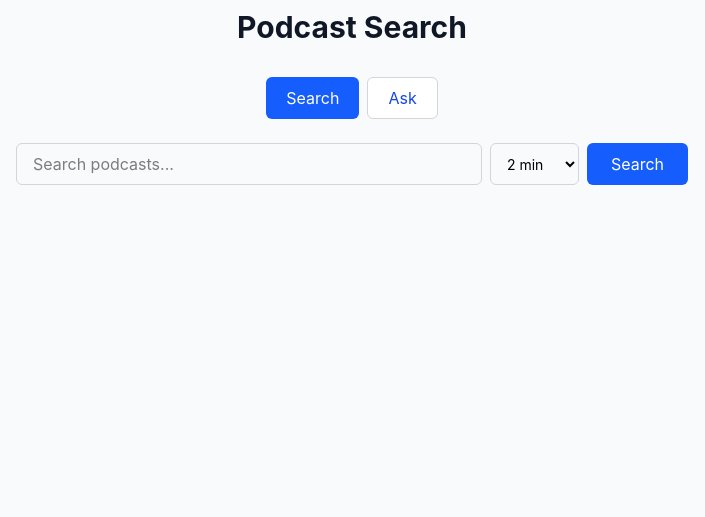
Scenario: Ask UI › preserves search and pagination across Ask navigation
Type "AI" into the field with placeholder "Search podcasts...".
click(249, 164); type("AI")  # box [16,143,482,185]
Then press Enter
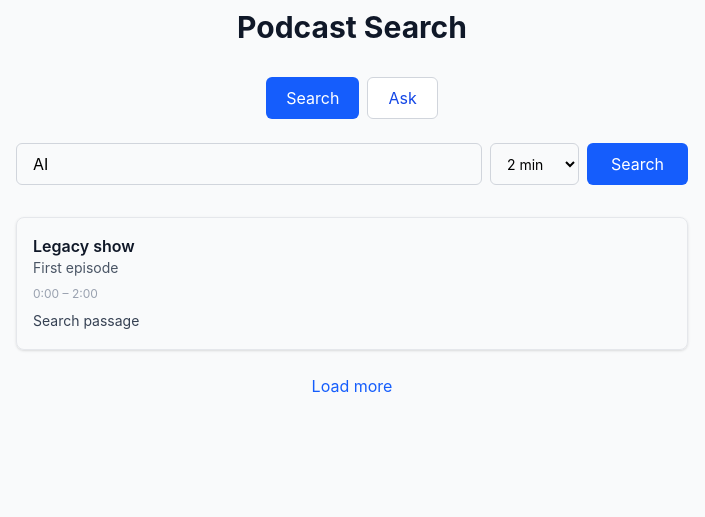
Result: the text "First episode" is shown at [33,259,118,276]
Click the button "Ask".
click(403, 98)  # box [367,77,438,119]
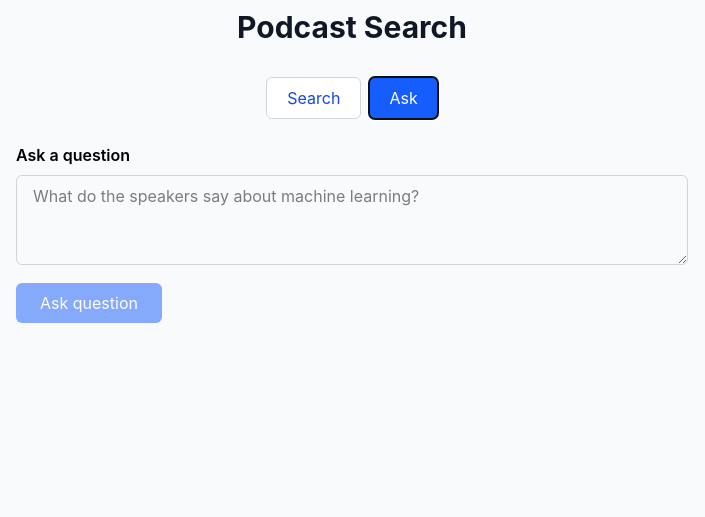
Result: the text box labelled "Ask a question" is shown at [16,175,688,265]
Click the button "Search".
click(314, 98)  # box [266,77,361,119]
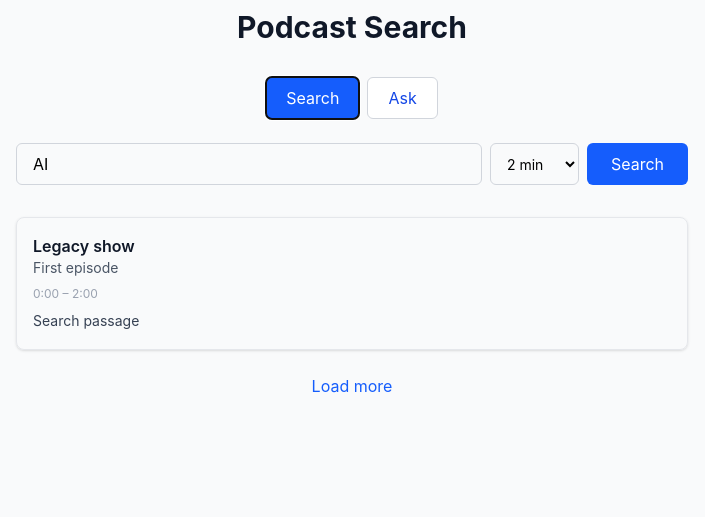
Result: the text "First episode" is shown at [33,259,118,276]
Click the button "Load more".
click(352, 386)  # box [16,366,688,406]
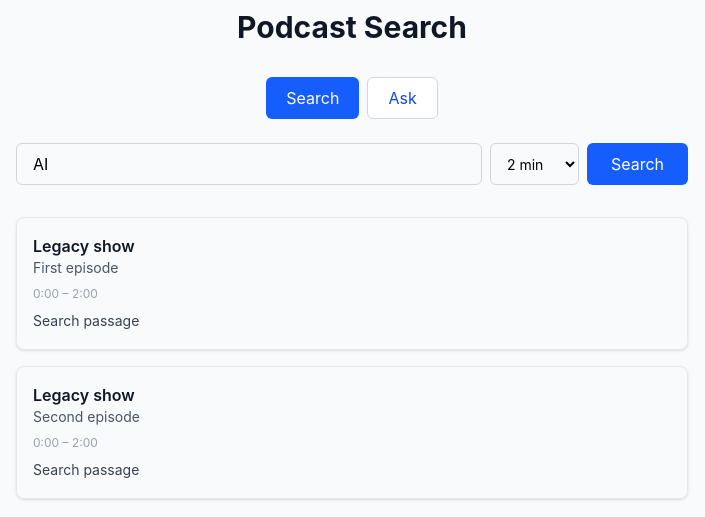
Result: the text "First episode" is shown at [33,259,118,276]
Result: the text "Second episode" is shown at [33,407,140,427]
Result: the button "Load more" is gone
